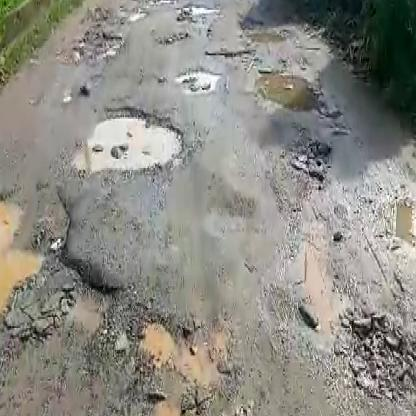pothole: (0, 187, 126, 338), (116, 313, 241, 416), (69, 102, 191, 176), (340, 311, 416, 406), (374, 192, 416, 275), (255, 69, 324, 117), (63, 22, 124, 72), (280, 137, 330, 190), (176, 67, 219, 94), (200, 45, 253, 60)
